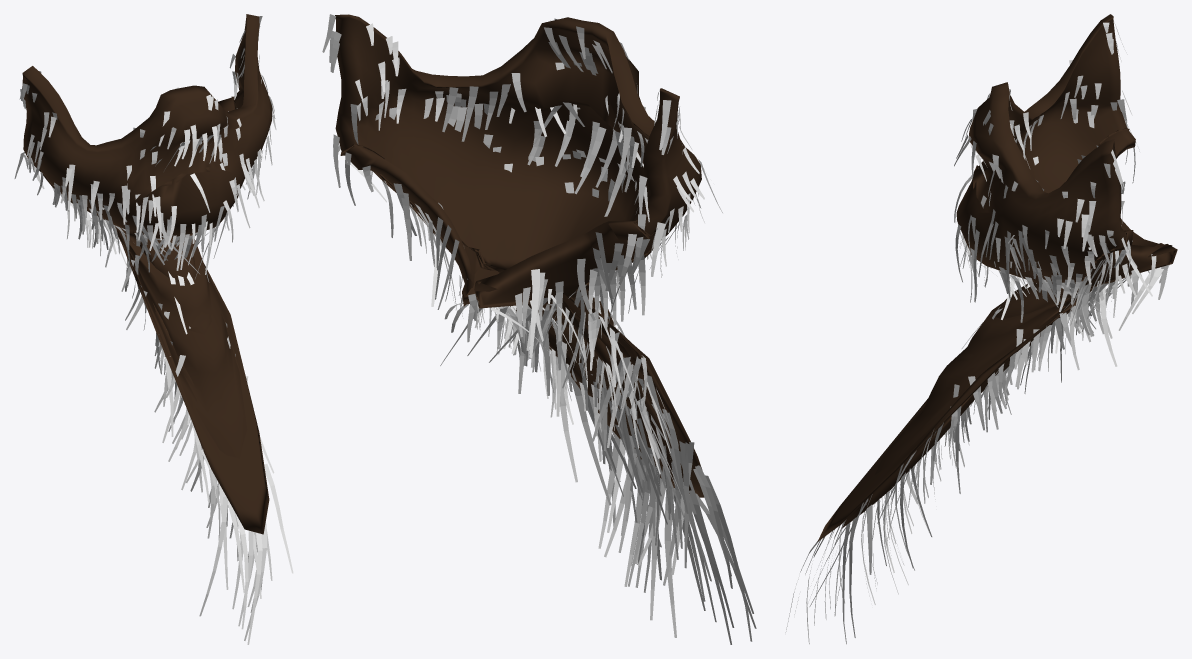
Rendered from beard-runekeeper-braided.glb.
3 views of the same model, side by side, from view 1: azimuth 30°, elevation 25°; view 2: azimuth 150°, elevation 25°; view 3: azimuth 270°, elevation 25° (orthographic). The views are drawn at different scales.
Parts seen in each view (by area): view 1: beard-runekeeper-braided_1, beard__strands; view 2: beard-runekeeper-braided_1, beard__strands; view 3: beard-runekeeper-braided_1, beard__strands.
Boxes of the visible parts, box(x1,y1,x2,y2) form: beard-runekeeper-braided_1: box(22, 14, 272, 534); beard__strands: box(14, 16, 293, 644); beard-runekeeper-braided_1: box(335, 14, 704, 497); beard__strands: box(322, 14, 756, 644); beard-runekeeper-braided_1: box(817, 14, 1177, 541); beard__strands: box(785, 22, 1169, 644).
Size of the model in its own units: 0.1563 by 0.3063 by 0.1872.
